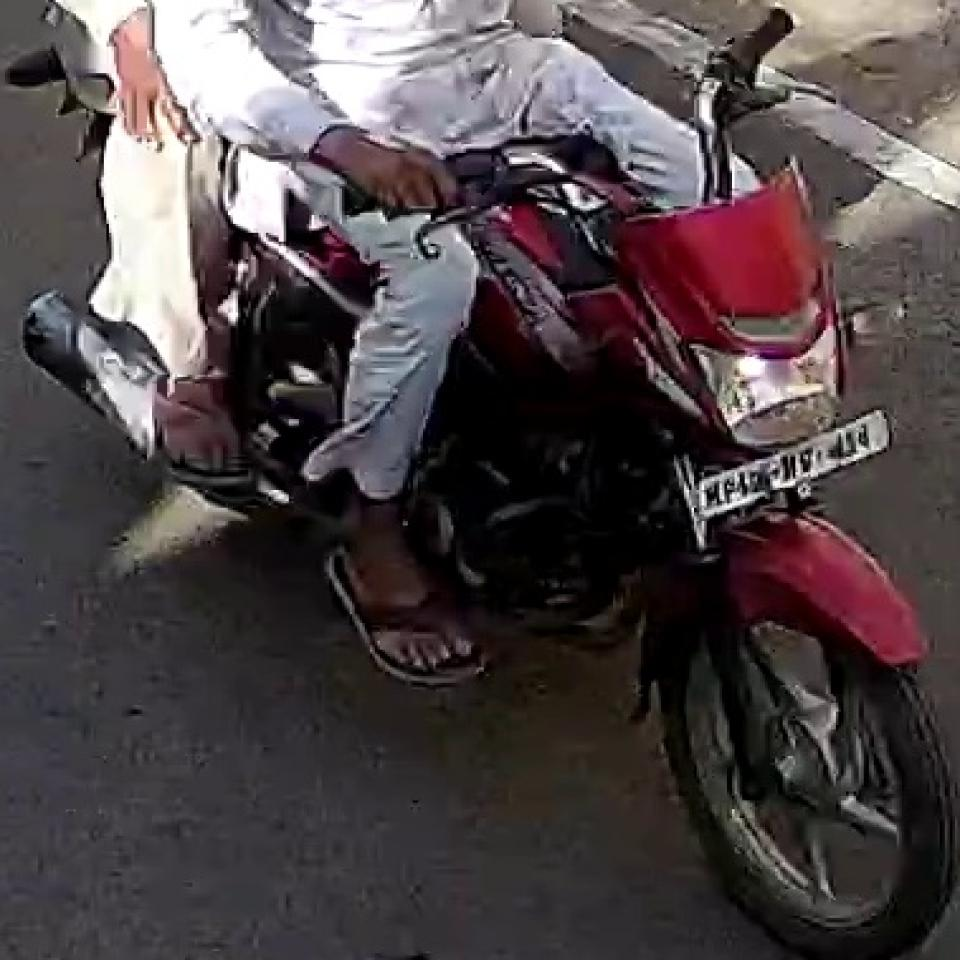head_light: (690, 324, 846, 446)
